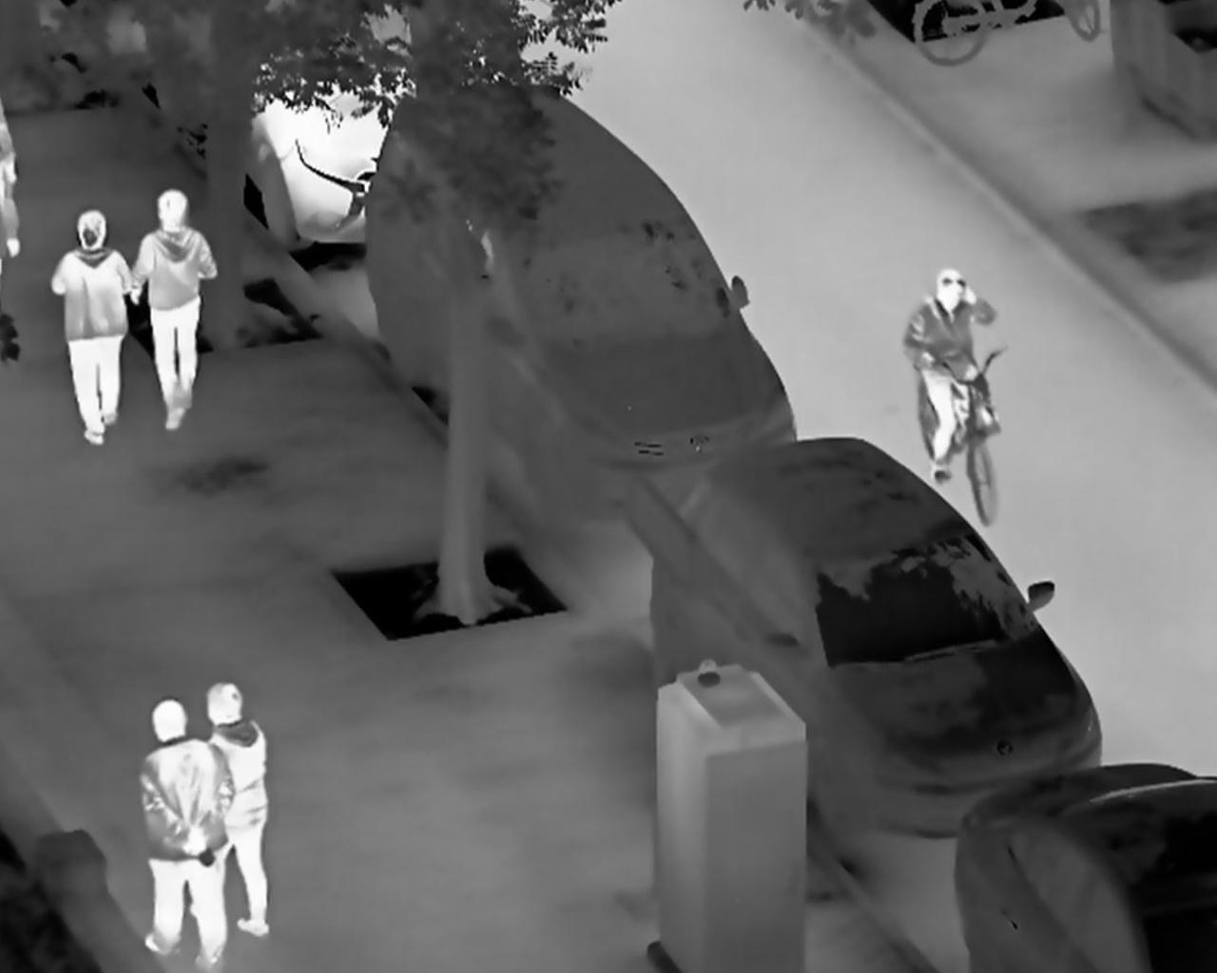person: (139, 697, 231, 973), (900, 268, 1004, 485), (131, 187, 221, 431), (46, 208, 130, 447), (202, 681, 273, 941)
